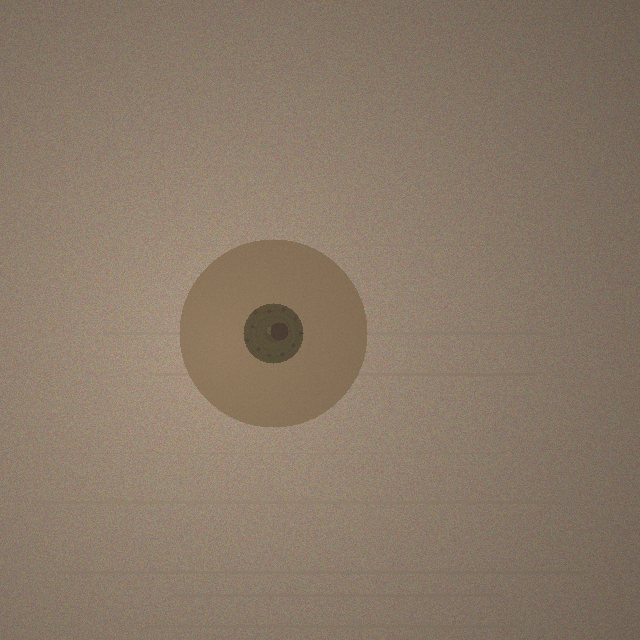cold_weld: (179, 239, 367, 427)
